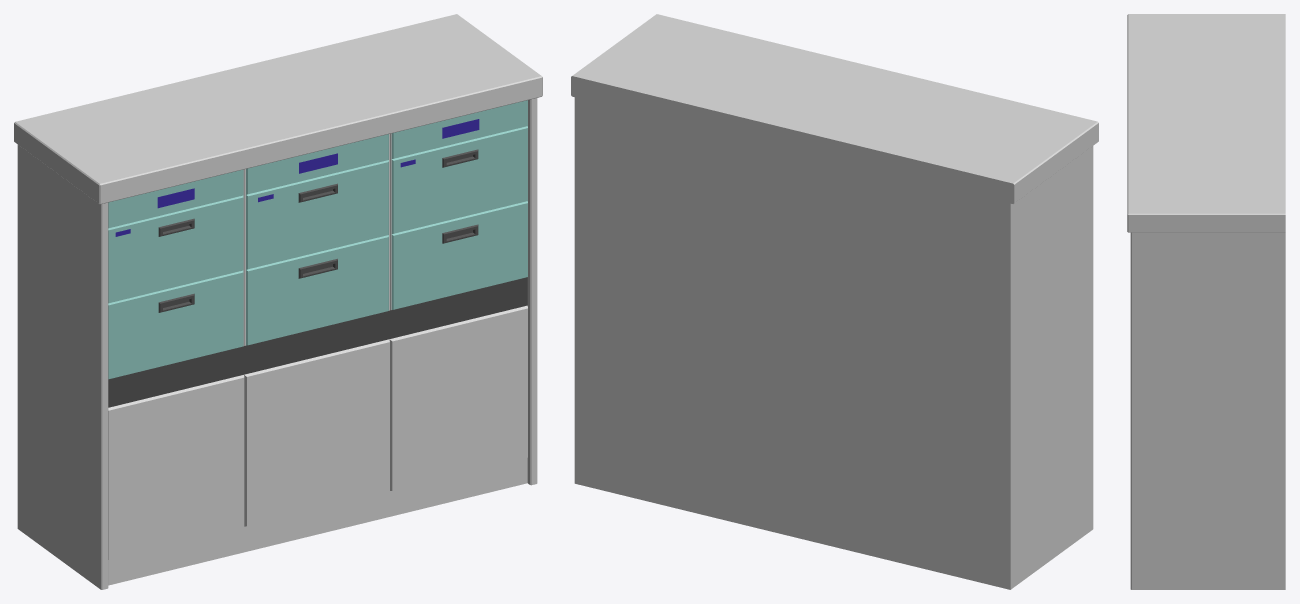
Rendered from HAIERZTKG0501.FBX.
The picture shows the model from 3 angles, left to right: view 1: azimuth 30°, elevation 25°; view 2: azimuth 150°, elevation 25°; view 3: azimuth 270°, elevation 25°; orthographic projection. The views are drawn at different scales.
Parts seen in each view (by area): view 1: HAIERZTKG0501; view 2: HAIERZTKG0501; view 3: HAIERZTKG0501.
Part boxes in pixels (<box>): HAIERZTKG0501: <box>14,14,542,589</box>; HAIERZTKG0501: <box>571,14,1098,589</box>; HAIERZTKG0501: <box>1127,14,1285,589</box>.
Bounding box in the file's own units: 180 × 60 × 158.
